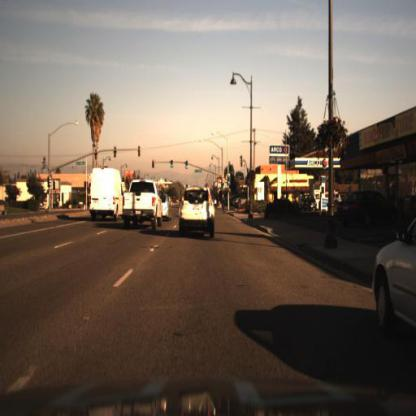biker: (219, 189, 230, 216)
car: (372, 207, 416, 378), (339, 186, 393, 230), (122, 177, 164, 233), (90, 165, 128, 222), (178, 187, 217, 238), (300, 189, 319, 214), (158, 194, 171, 222)
trafficLight-Green: (226, 173, 233, 191), (184, 159, 191, 175), (170, 159, 176, 174), (221, 182, 226, 195)
trafficLight-RedLeft: (150, 158, 157, 172)
truck: (90, 171, 127, 226)
